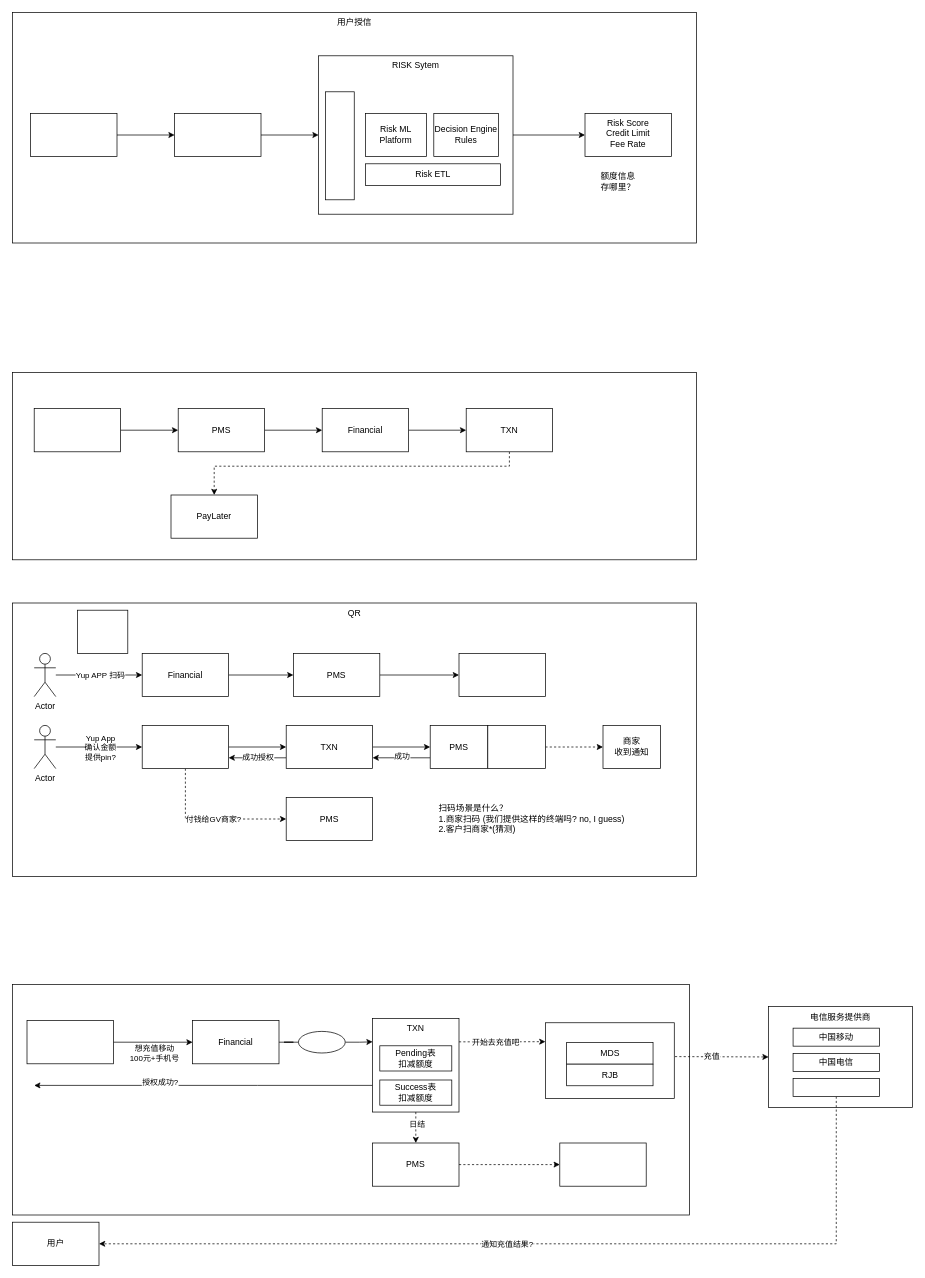
Image size: 925x1278. Some labels were removed from this diagram. The shapes that lost their labels are listed below. From the top down, each one's box as (x1, y1, x2, y2) in pixels, then its label:
(30, 113, 117, 157): YUP APP Register
(174, 113, 261, 157): Onboarding Process
(325, 91, 354, 200): AMS
(33, 408, 121, 452): BSS
(12, 372, 697, 560): 信用卡刷卡
(77, 609, 128, 653): GV商家提供 QRCode?
(458, 653, 545, 697): GV 返回商家&价格信息?
(141, 725, 229, 769): Financial 检查额度?
(487, 725, 545, 769): GV
(26, 1020, 113, 1064): ESP(内部商城) 登录Yup用户
(298, 1031, 345, 1053): approved
(545, 1022, 674, 1098): 外部商户Gateway
(12, 984, 689, 1215): 应用内
(792, 1078, 879, 1097): 中国联通
(559, 1142, 646, 1186): MDS/RJB
